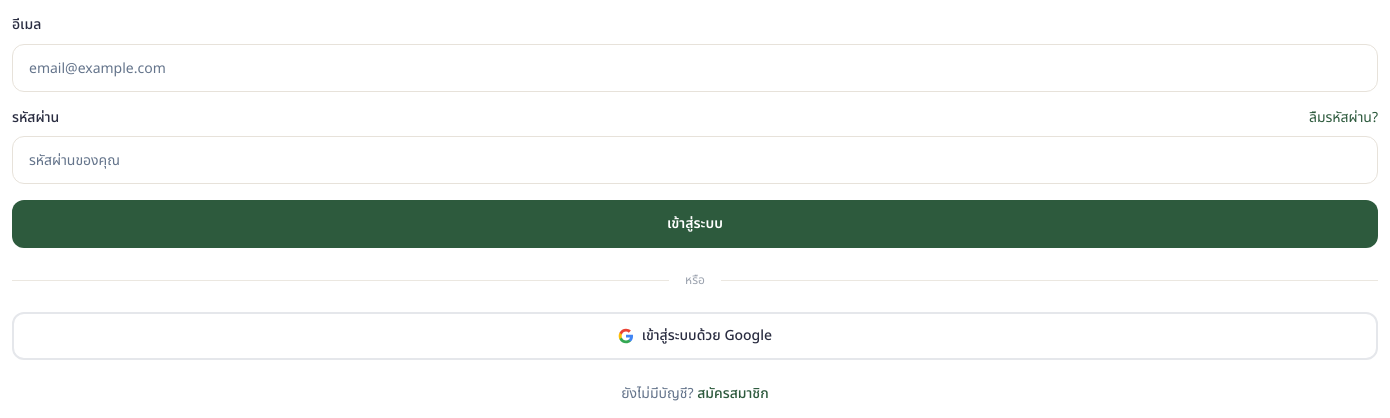
Test: LoginForm › Google Login › disables all buttons while Google login is in progress
Click the button "เข้าสู่ระบบด้วย Google" at (695, 336), box [12,312,1378,360]
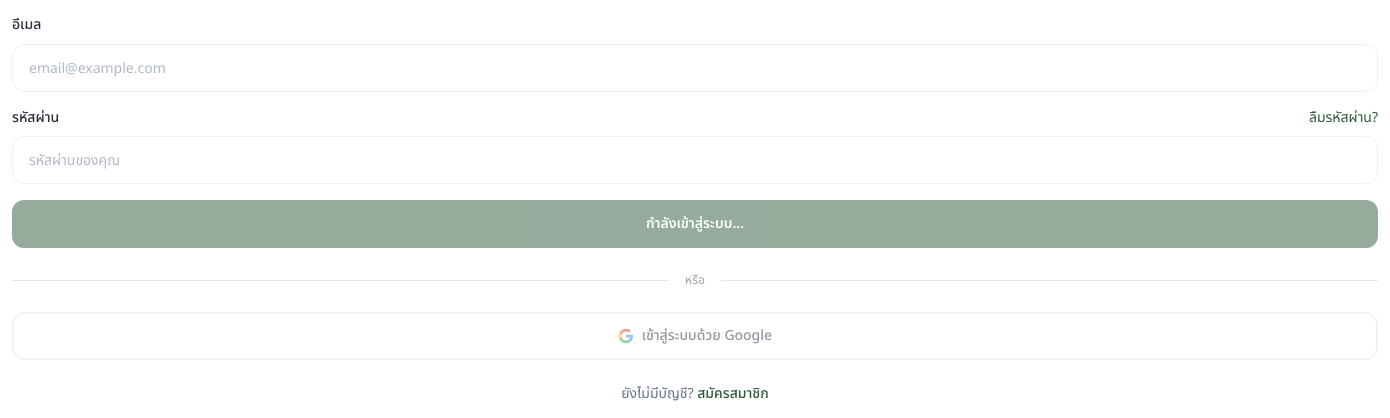
Expected: the button "เข้าสู่ระบบด้วย Google" is disabled, [12,312,1378,360]
Expected: the button "กำลังเข้าสู่ระบบ..." is disabled, [12,200,1378,248]
